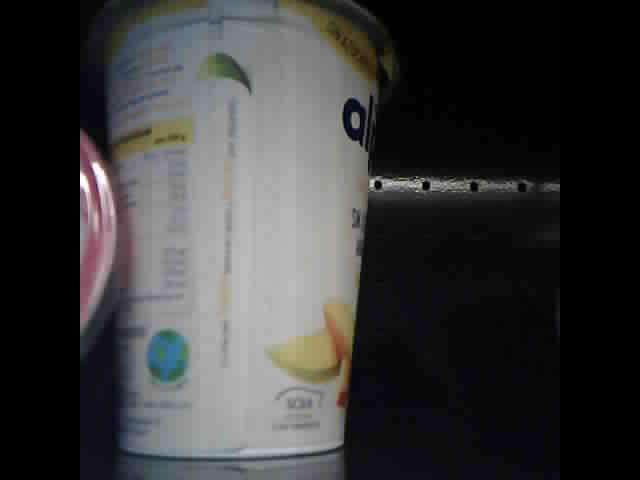alpro: (83, 2, 398, 460)
